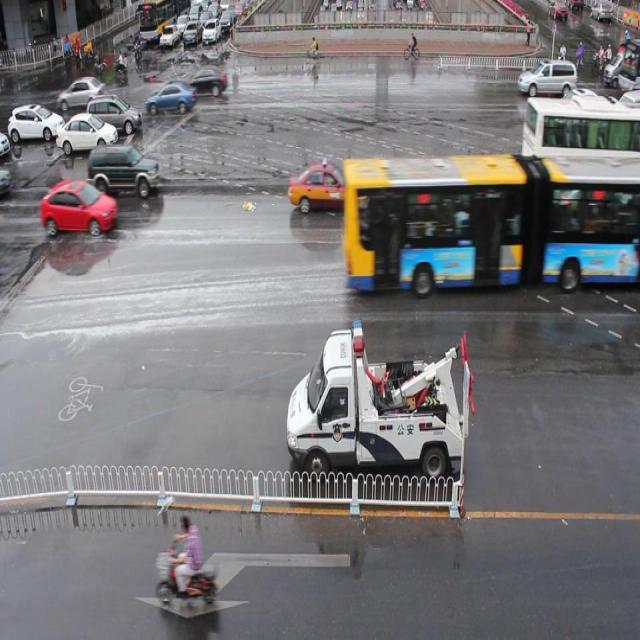car: (41, 177, 115, 231), (88, 143, 160, 197), (287, 162, 352, 212), (546, 85, 607, 127), (608, 178, 640, 239), (144, 82, 194, 116), (183, 66, 227, 98)
truck: (517, 57, 575, 98)
van: (343, 155, 640, 287), (520, 96, 640, 193)
